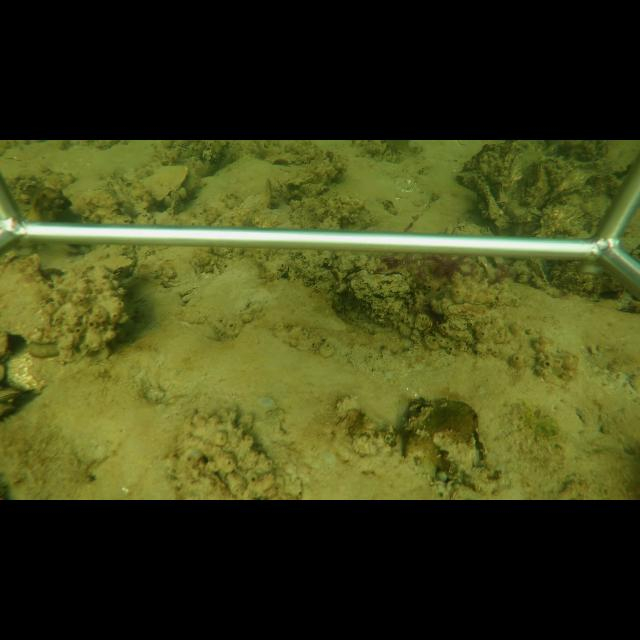Oyster-Closed: (0, 251, 59, 345), (141, 164, 191, 201)
Oyster-Open: (339, 263, 416, 301)
